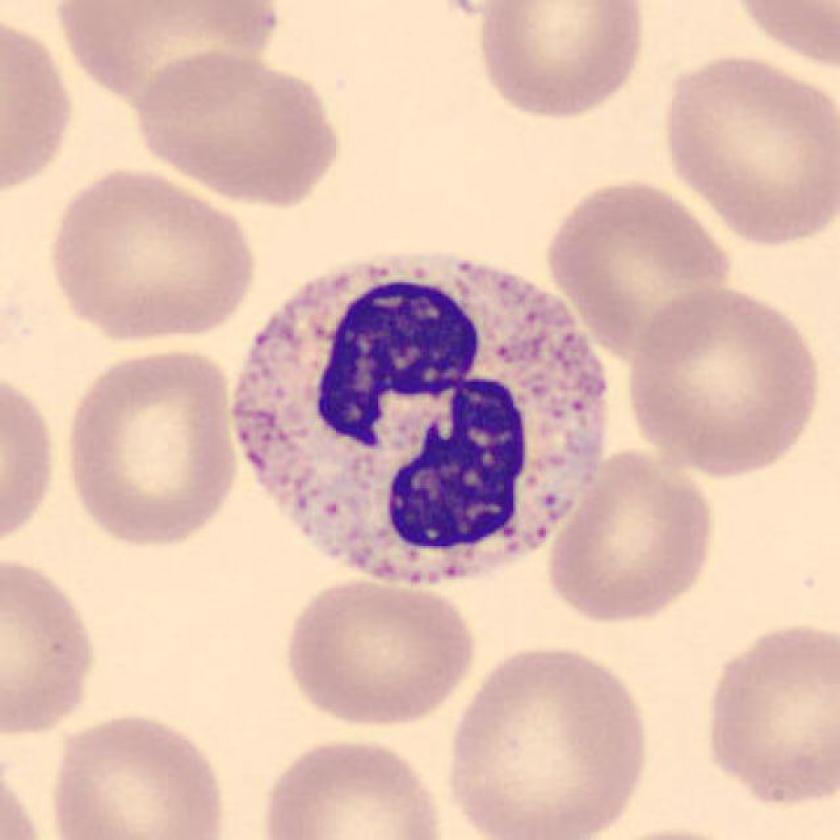neutrophil: (236, 257, 606, 585)
